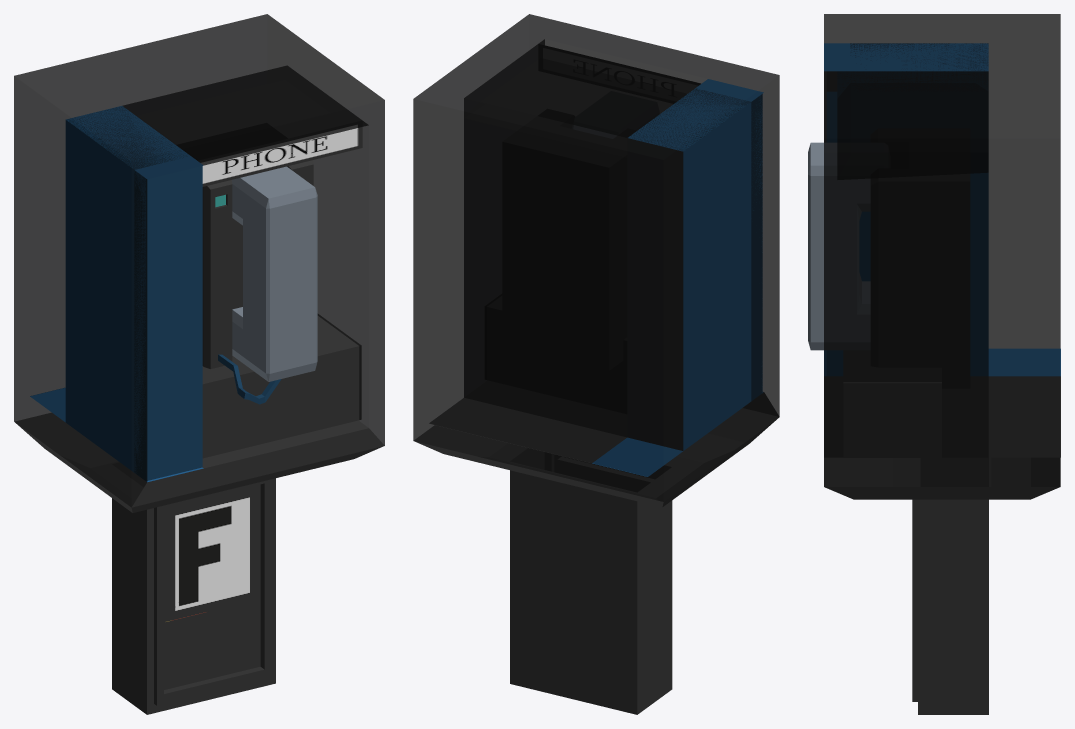
Rendered from STA_Project_PhoneBox_V1.fbx.
3 views of the same model, side by side, from view 1: azimuth 30°, elevation 25°; view 2: azimuth 150°, elevation 25°; view 3: azimuth 270°, elevation 25° (orthographic).
Visible parts, largest first — view 1: Base, Phone; view 2: Base; view 3: Base, Phone.
Part boxes in pixels (x1=…): Base: x1=14, y1=14, x2=384, y2=714; Phone: x1=218, y1=166, x2=317, y2=404; Base: x1=413, y1=14, x2=779, y2=714; Base: x1=824, y1=14, x2=1060, y2=714; Phone: x1=808, y1=142, x2=870, y2=350.
Bounding box in the file's own units: 289 × 658 × 248.
3 materials, 1 textured.
